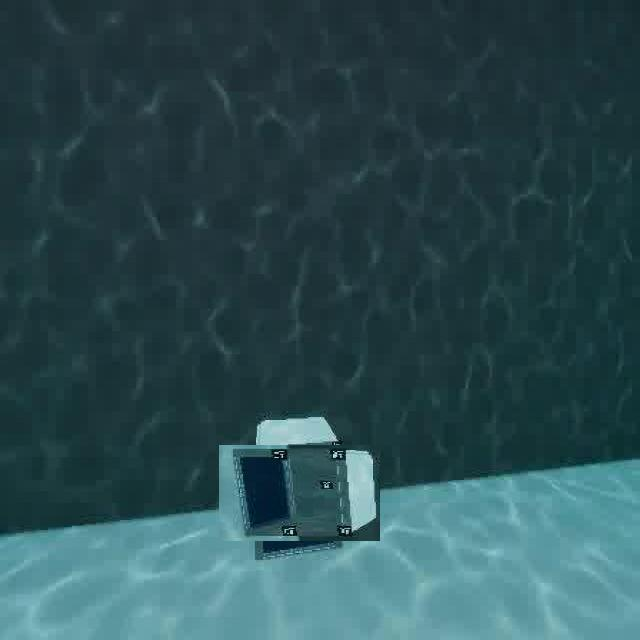Docking Station: (234, 428, 364, 558)
